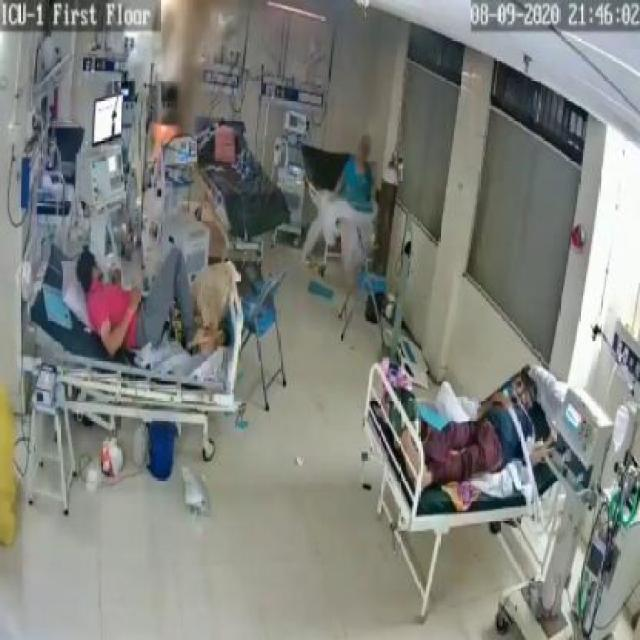fire: (147, 114, 178, 158)
smoke: (148, 1, 202, 118)
